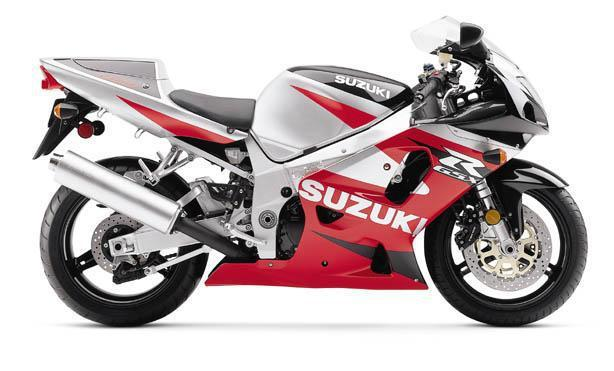motorcycle: (20, 3, 604, 347)
